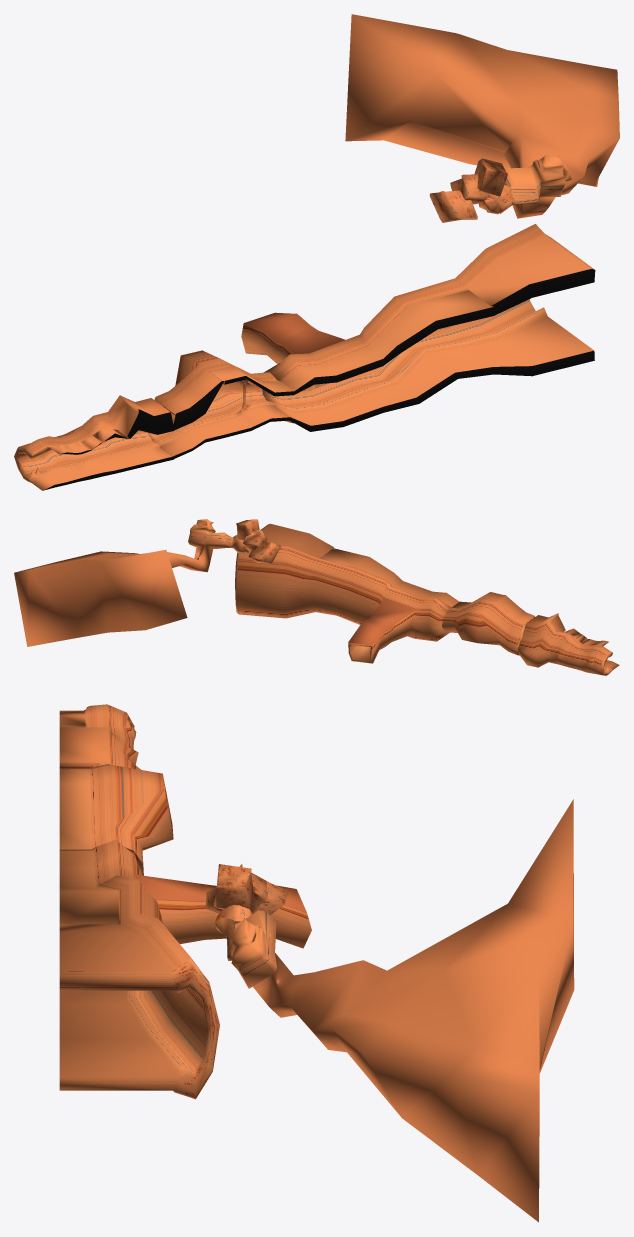
Rendered from test-cave-background.glb.
3 renders of one model, top to bottom at view 1: azimuth 30°, elevation 25°; view 2: azimuth 150°, elevation 25°; view 3: azimuth 270°, elevation 25°, orthographic. The views are drawn at different scales.
Visible parts, largest first — view 1: Cube, seaweed.002, seaweed, seaweed.001; view 2: seaweed.002, Cube, seaweed, seaweed.001; view 3: Cube, seaweed.002, seaweed.001, seaweed.
Boxes of the visible parts, x1=… form: Cube: x1=345, y1=14, x2=619, y2=222; seaweed.002: x1=241, y1=224, x2=595, y2=431; seaweed: x1=14, y1=395, x2=174, y2=490; seaweed.001: x1=149, y1=350, x2=294, y2=459; seaweed.002: x1=235, y1=523, x2=459, y2=663; Cube: x1=14, y1=519, x2=280, y2=646; seaweed: x1=518, y1=613, x2=619, y2=675; seaweed.001: x1=442, y1=592, x2=534, y2=655; Cube: x1=205, y1=799, x2=574, y2=1222; seaweed.002: x1=59, y1=839, x2=311, y2=1099; seaweed.001: x1=59, y1=764, x2=173, y2=863; seaweed: x1=59, y1=704, x2=140, y2=769.
Size of the model in its own units: 100 by 27.47 by 45.81.
2 materials, 1 textured.
